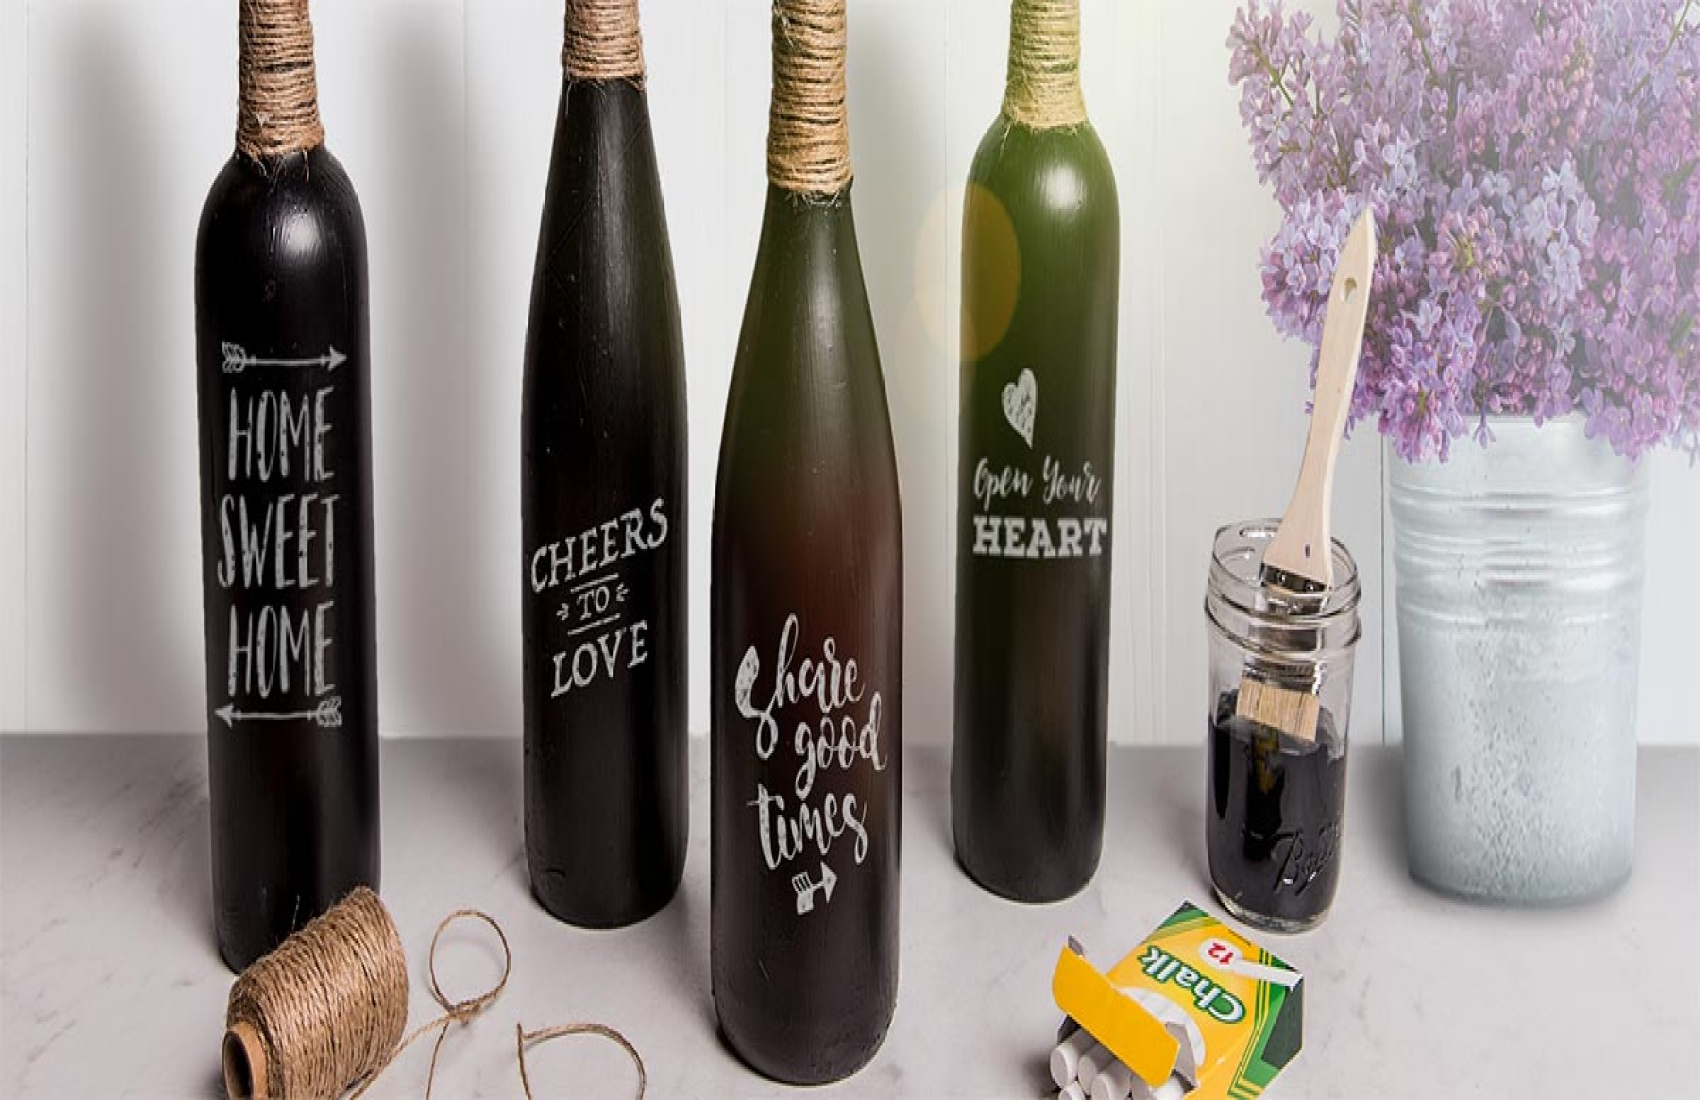wine: (706, 42, 888, 1070), (201, 1, 385, 971), (518, 7, 696, 919), (950, 1, 1128, 910)
